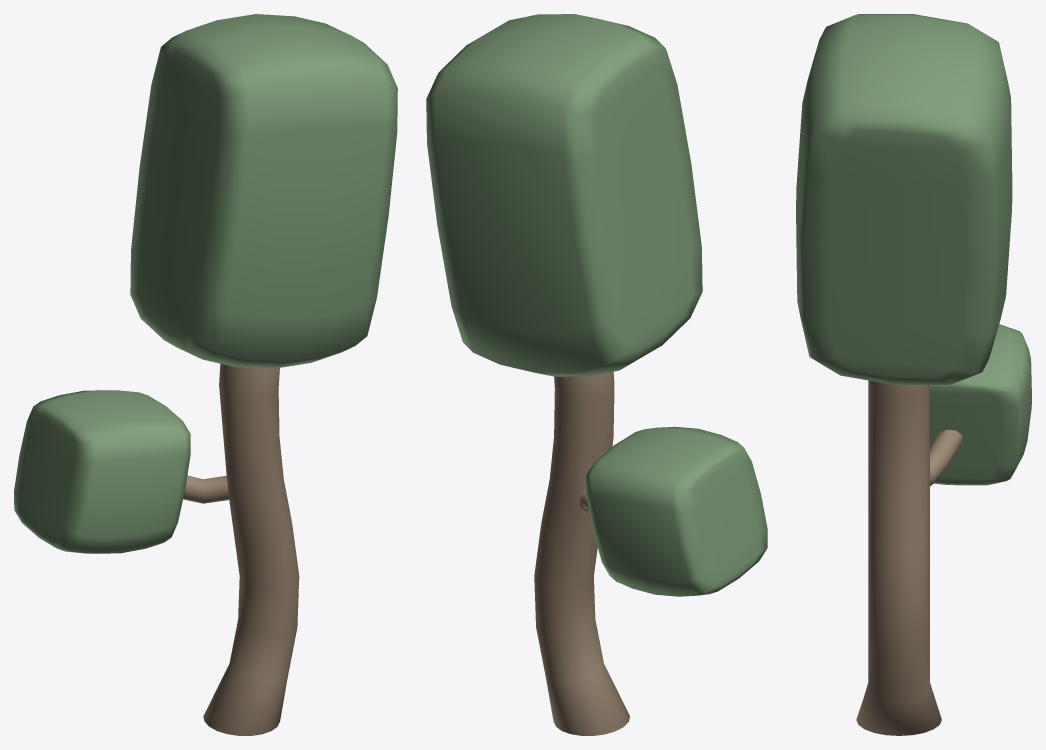
The model's file is Tree_03.fbx.
3 renders of one model, left to right at view 1: azimuth 30°, elevation 25°; view 2: azimuth 150°, elevation 25°; view 3: azimuth 270°, elevation 25°, orthographic. The views are drawn at different scales.
Visible parts, largest first — view 1: tree_03; view 2: tree_03; view 3: tree_03.
Boxes of the visible parts, box(x1,y1,x2,y2) form: tree_03: box(14, 14, 397, 735); tree_03: box(426, 14, 767, 735); tree_03: box(796, 14, 1031, 735).
Size of the model in its own units: 41.98 by 89.99 by 27.63.
